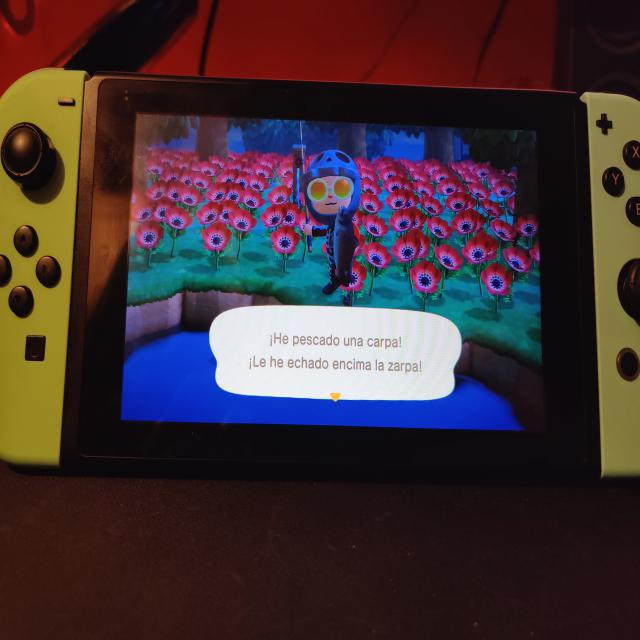text_bubble: (209, 305, 466, 404)
